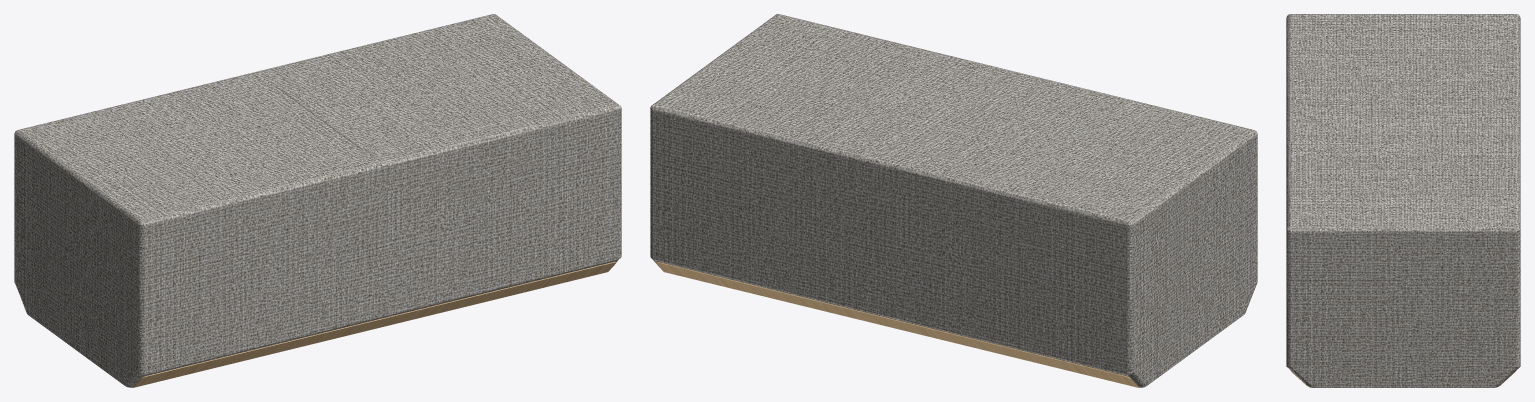
The picture shows the model from 3 angles, left to right: view 1: azimuth 30°, elevation 25°; view 2: azimuth 150°, elevation 25°; view 3: azimuth 270°, elevation 25°; orthographic projection. The views are drawn at different scales.
Parts seen in each view (by area): view 1: 2, 6; view 2: 2, 5; view 3: 2.
Boxes of the visible parts, x1,y1,x2,y2 form: 2: (14,14,621,387); 6: (132,262,616,387); 2: (650,14,1257,387); 5: (655,262,1138,387); 2: (1286,14,1520,387).
Size of the model in its own units: 1.2 by 0.4231 by 0.55.
3 materials, 2 textured.
